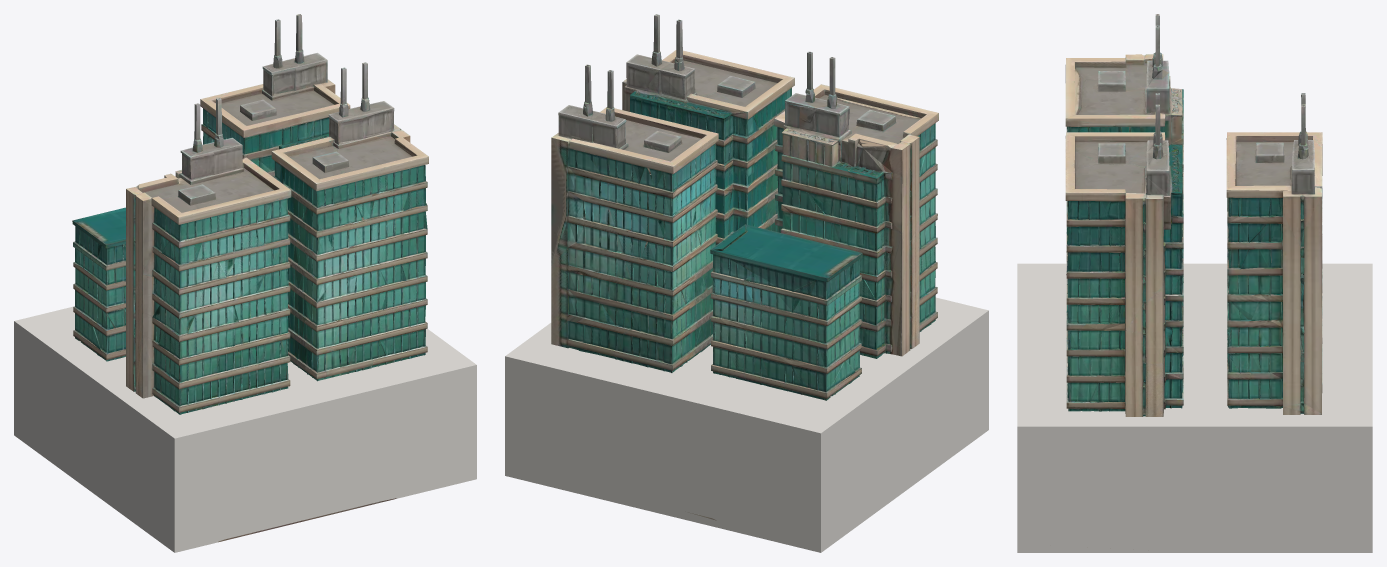
Rendered from town_office_tower_modern.glb.
3 views of the same model, side by side, from view 1: azimuth 30°, elevation 25°; view 2: azimuth 150°, elevation 25°; view 3: azimuth 270°, elevation 25° (orthographic). The views are drawn at different scales.
Visible parts, largest first — view 1: normalize, plinth; view 2: normalize, plinth; view 3: plinth, normalize.
Part boxes in pixels (bbox=[...]): normalize: bbox=[72, 14, 428, 542]; plinth: bbox=[14, 306, 476, 552]; normalize: bbox=[551, 14, 938, 520]; plinth: bbox=[505, 297, 988, 552]; plinth: bbox=[1017, 263, 1372, 552]; normalize: bbox=[1065, 14, 1322, 416].
Size of the model in its own units: 1 by 1.21 by 0.9208.
2 materials, 1 textured.
